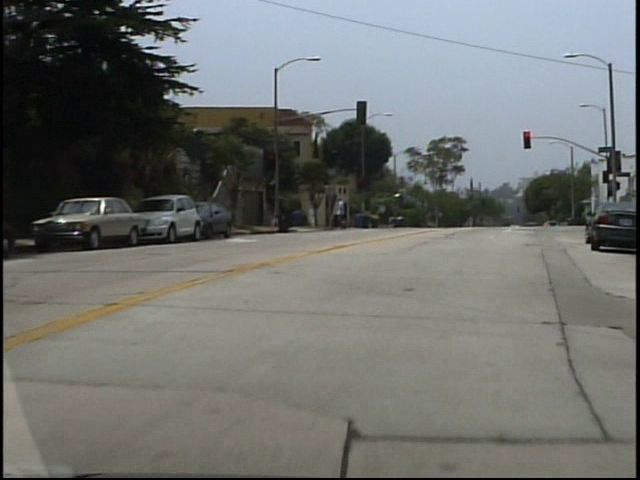person: (341, 199, 353, 233), (313, 204, 322, 231)
